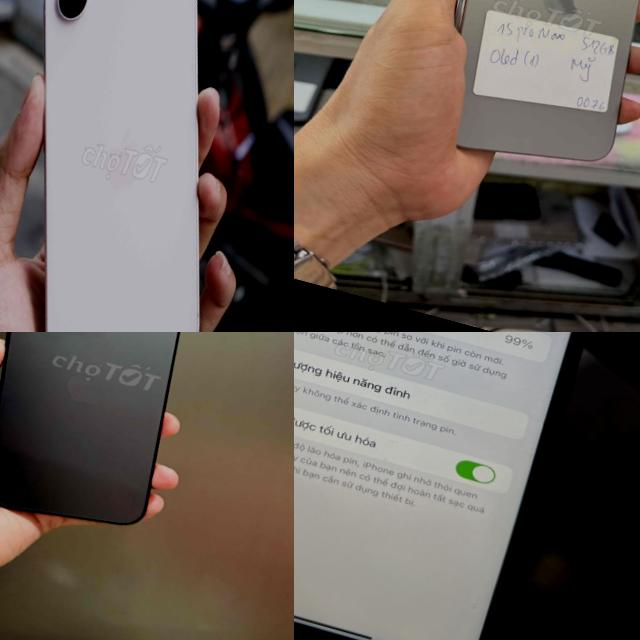gen_11: (294, 332, 636, 640)
gen_14: (0, 332, 220, 547)
gen_15: (406, 0, 640, 197)
gen_17: (0, 0, 294, 332)
